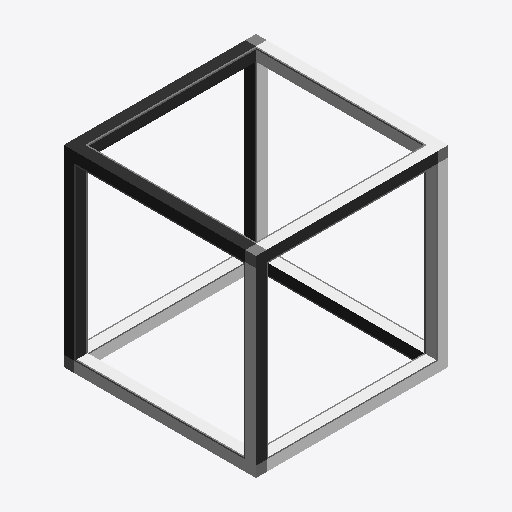
Isometric view (azimuth 45°, elevation 35.3°) of a Minecraft model made of 12 cuboids, textured from the same repository.
Visible parts, largest first — element 2, element 3, element 5, element 1, element 11, element 12, element 6, element 10, element 8, element 4, element 7, element 9.
Part boxes in pixels (left/top/right/bottom): element 2: left=244, top=242, right=267, bottom=477; element 3: left=424, top=138, right=447, bottom=372; element 5: left=64, top=138, right=267, bottom=269; element 1: left=64, top=139, right=87, bottom=373; element 11: left=245, top=145, right=447, bottom=266; element 12: left=64, top=35, right=266, bottom=165; element 6: left=245, top=36, right=447, bottom=162; element 10: left=250, top=353, right=446, bottom=477; element 8: left=65, top=353, right=262, bottom=476; element 4: left=244, top=34, right=267, bottom=241; element 7: left=268, top=256, right=447, bottom=370; element 9: left=67, top=256, right=243, bottom=371.
Size of the model in its own units: 16 by 16 by 16.